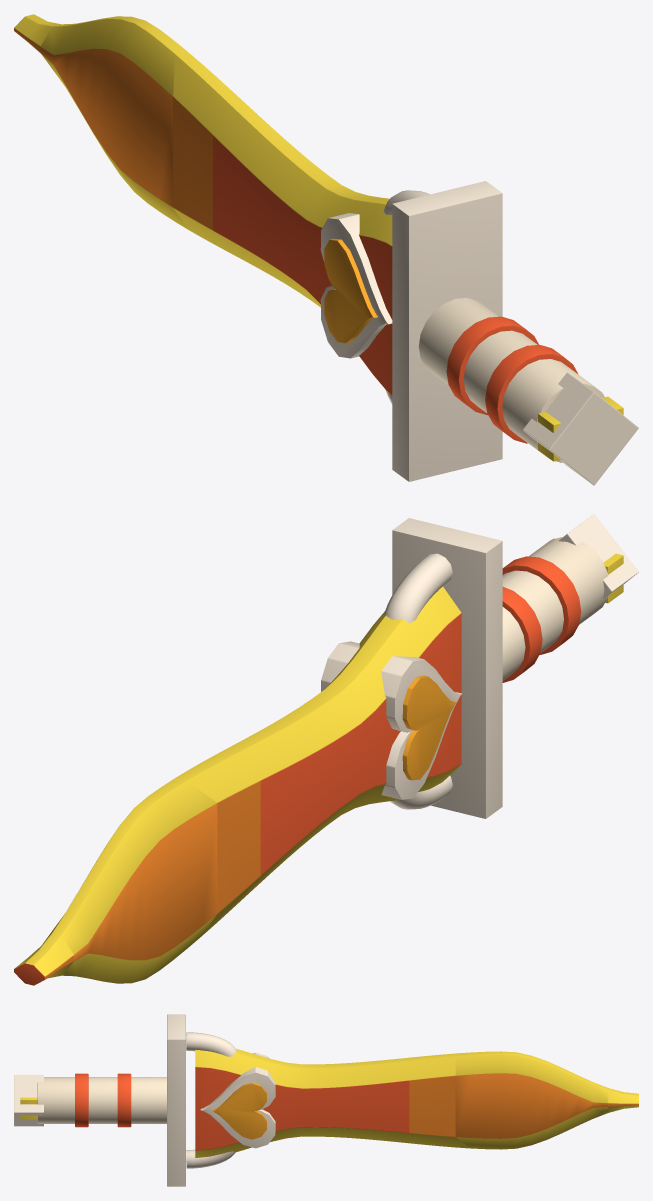
Rendered from Sword_ColossusHeart.glb.
3 views of the same model, one above another, from view 1: azimuth 30°, elevation 25°; view 2: azimuth 150°, elevation 25°; view 3: azimuth 270°, elevation 25° (orthographic). The views are drawn at different scales.
Visible parts, largest first — view 1: Sword_ColossusHeart; view 2: Sword_ColossusHeart; view 3: Sword_ColossusHeart.
Part boxes in pixels (left/top/right/bottom): Sword_ColossusHeart: left=14, top=14, right=638, bottom=485; Sword_ColossusHeart: left=14, top=514, right=638, bottom=985; Sword_ColossusHeart: left=14, top=1014, right=638, bottom=1186.
Size of the model in its own units: 0.096 by 0.26 by 1.
Materials: 1 (1 with a texture image).
